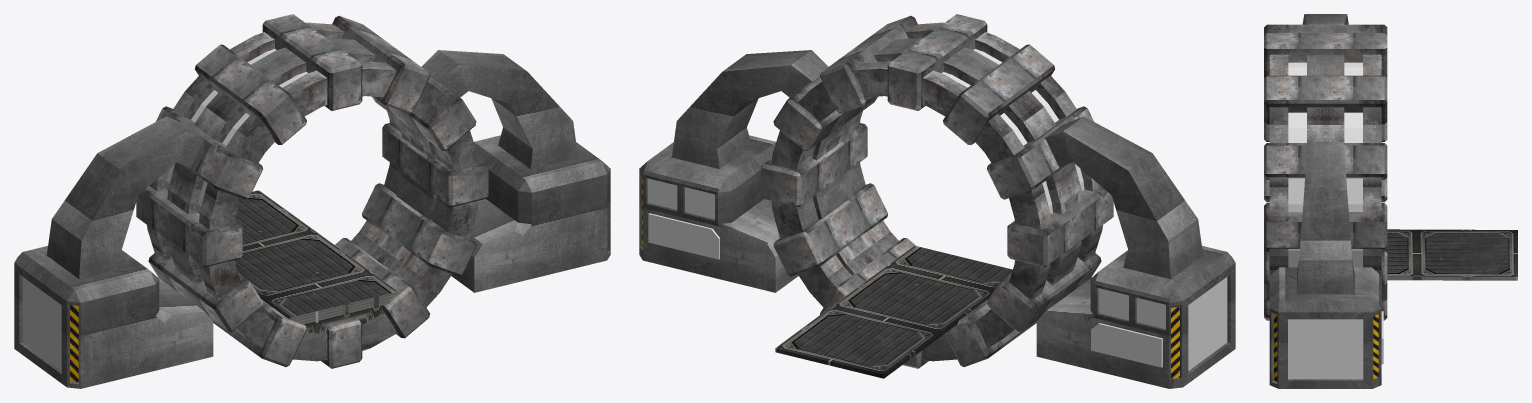
The model's file is scifi.fbx.
3 renders of one model, left to right at view 1: azimuth 30°, elevation 25°; view 2: azimuth 150°, elevation 25°; view 3: azimuth 270°, elevation 25°, orthographic. The views are drawn at different scales.
Parts seen in each view (by area): view 1: Cube, Cube.001, Cylinder, Plane; view 2: Cube, Cube.001, Cylinder, Plane, Plane.002; view 3: Cube, Cube.001, Cylinder, Plane.
Boxes of the visible parts, left/top/right/bottom form: Cube: left=14, top=50, right=610, bottom=388; Cube.001: left=136, top=14, right=488, bottom=368; Cylinder: left=147, top=22, right=478, bottom=361; Plane: left=235, top=190, right=398, bottom=333; Cube: left=639, top=50, right=1235, bottom=388; Cube.001: left=761, top=14, right=1113, bottom=368; Cylinder: left=771, top=22, right=1102, bottom=361; Plane: left=775, top=245, right=1012, bottom=378; Plane.002: left=648, top=213, right=1162, bottom=367; Cube: left=1269, top=14, right=1381, bottom=388; Cube.001: left=1264, top=24, right=1387, bottom=320; Cylinder: left=1269, top=54, right=1381, bottom=275; Plane: left=1381, top=229, right=1517, bottom=280.
Bounding box in the file's own units: 1000 × 527 × 454.
Materials: 6 (4 with a texture image).
